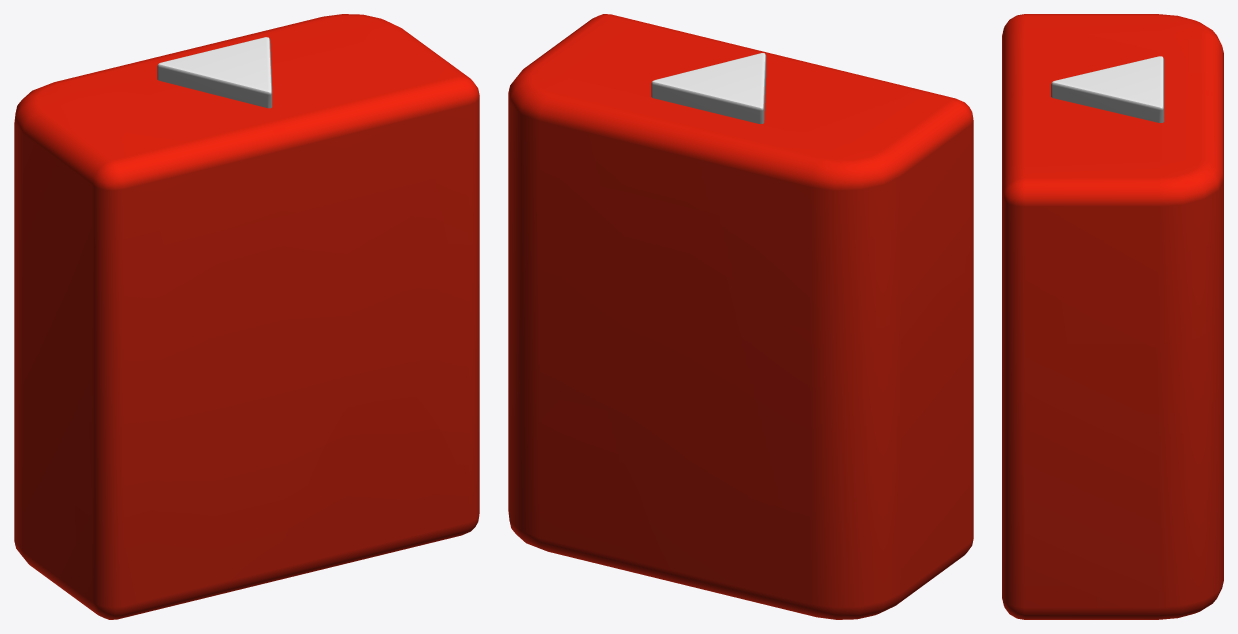
Rendered from Blast_Red.fbx.
3 views of the same model, side by side, from view 1: azimuth 30°, elevation 25°; view 2: azimuth 150°, elevation 25°; view 3: azimuth 270°, elevation 25° (orthographic). The views are drawn at different scales.
Parts seen in each view (by area): view 1: Blast_Red; view 2: Blast_Red; view 3: Blast_Red.
Boxes of the visible parts, x1=… form: Blast_Red: x1=14, y1=14, x2=479, y2=619; Blast_Red: x1=508, y1=14, x2=973, y2=619; Blast_Red: x1=1002, y1=14, x2=1223, y2=619.
Bounding box in the file's own units: 1.01 × 1.19 × 0.525.
1 material, 1 textured.
